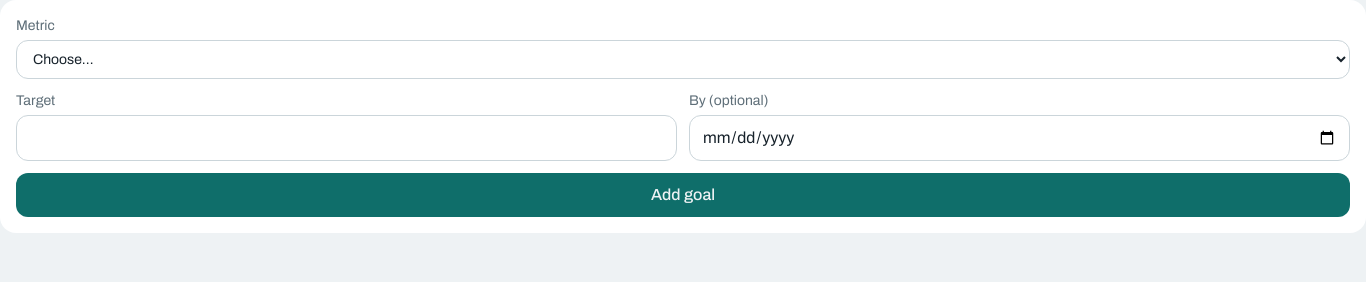
Test: GoalForm › shows why the server refused
This screenshot has width=1366, height=282.
Select "Body fat" in the dropdown labelled "Metric" at (683, 60), box [16,40,1350,79]
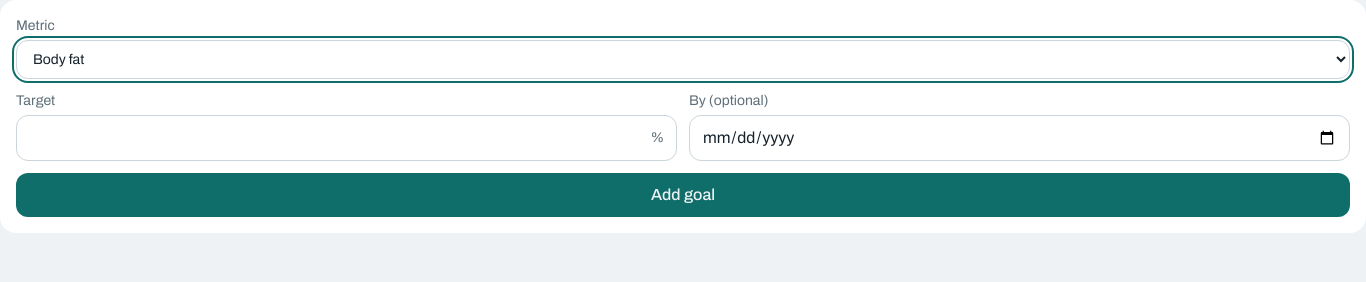
Type "15" into the field labelled "Target" at (336, 138), box [29,116,643,160]
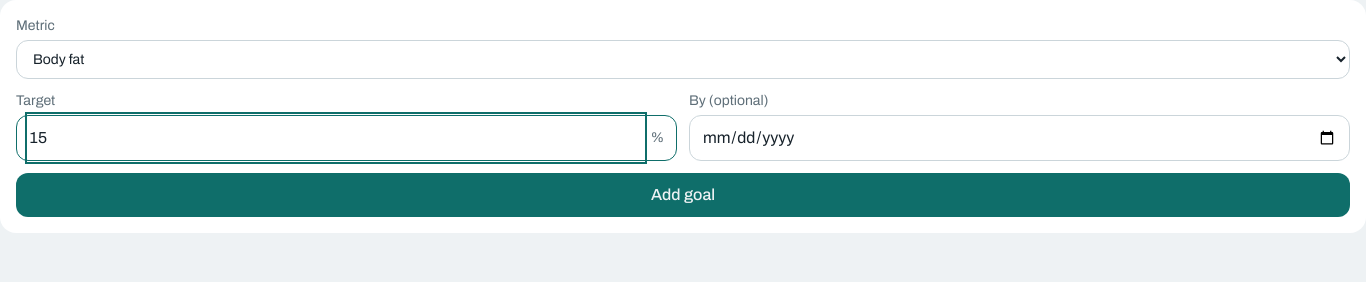
Click the button "Add goal" at (683, 195), box [16,173,1350,217]
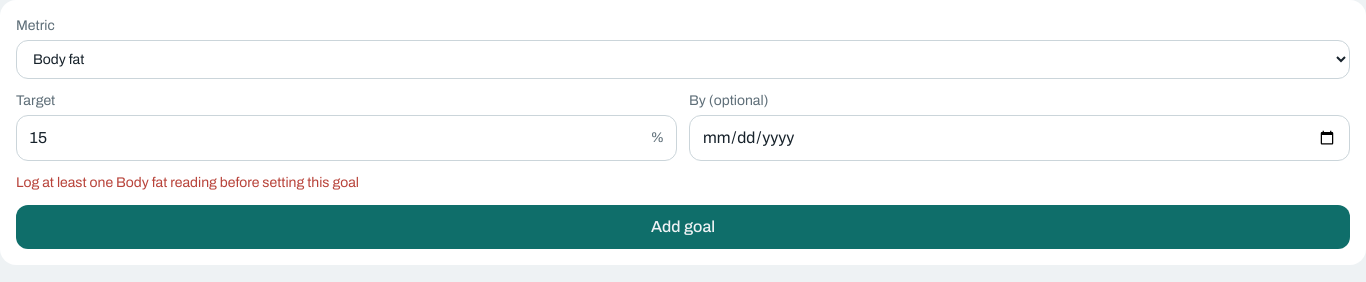
Expected: the message shows "Log at least one Body fat reading", [16,175,359,190]
